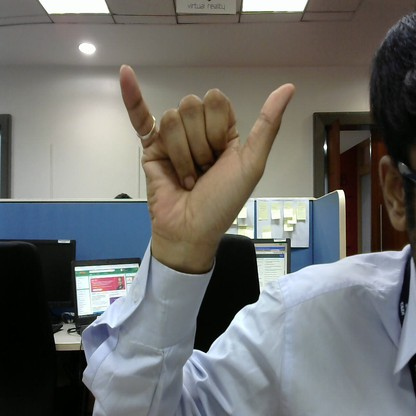y: (110, 55, 303, 248)
